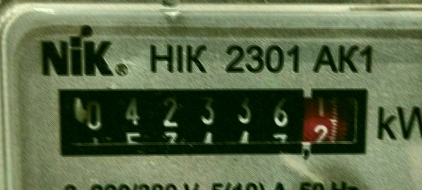0: (82, 97, 101, 130)
1: (312, 91, 324, 117)
2: (158, 93, 179, 127), (309, 122, 326, 143)
3: (195, 92, 213, 124), (234, 92, 251, 124)
4: (122, 93, 139, 125)
6: (269, 94, 289, 128)
screen: (44, 74, 379, 165)
